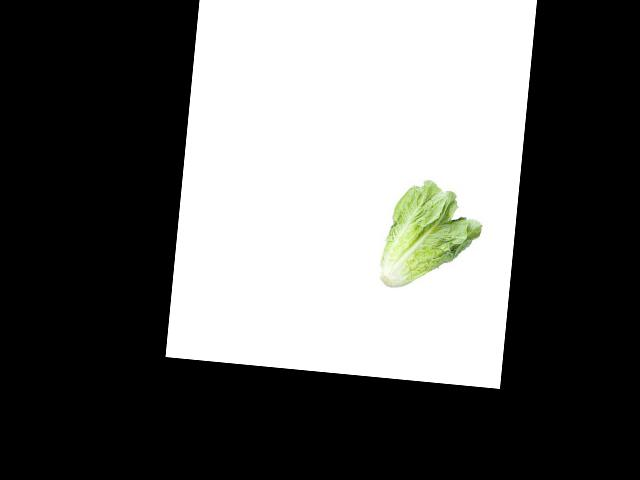lettuce: (381, 181, 491, 292)
